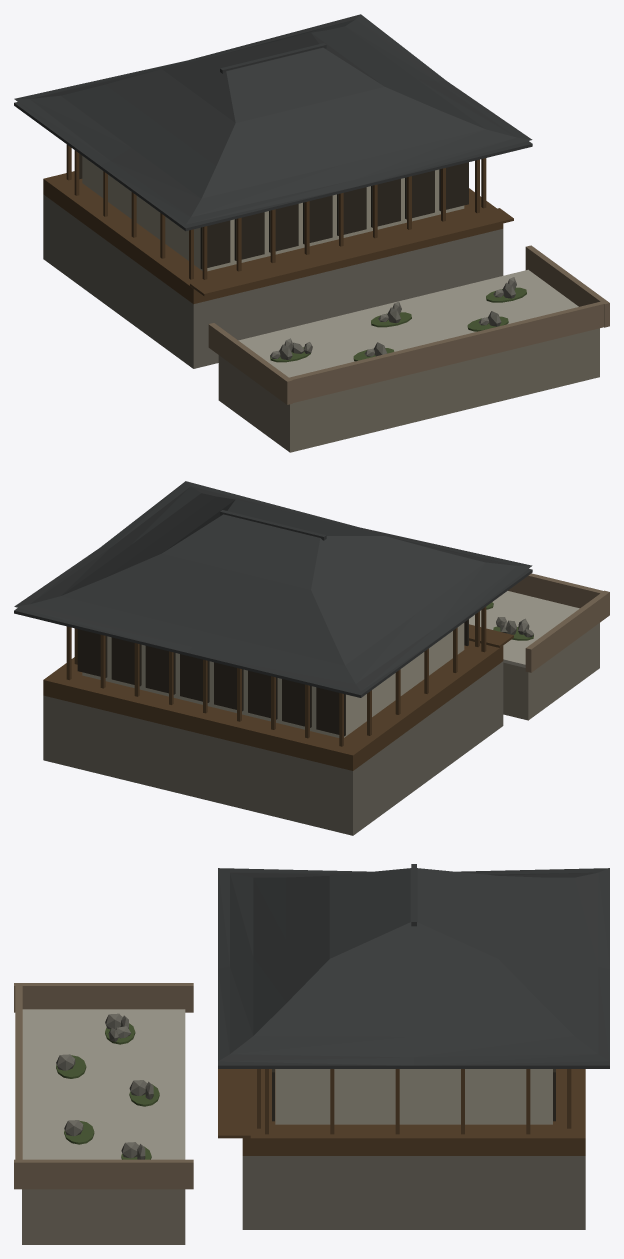
Rendered from ryoanji.glb.
The picture shows the model from 3 angles, top to bottom: view 1: azimuth 30°, elevation 25°; view 2: azimuth 150°, elevation 25°; view 3: azimuth 270°, elevation 25°; orthographic projection. The views are drawn at different scales.
Size of the model in its own units: 28 by 17.94 by 36.5.
